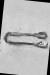V13: (1, 0, 50, 74)
